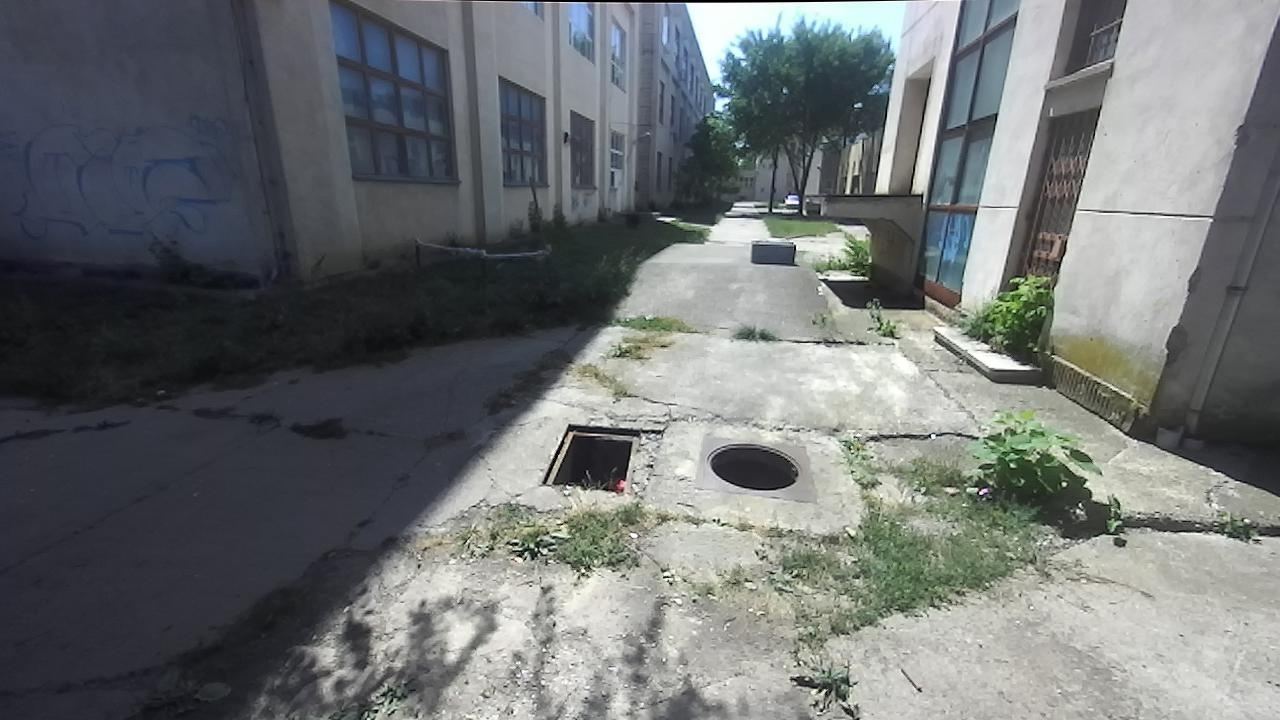drain: (537, 427, 663, 488), (701, 444, 807, 494)
